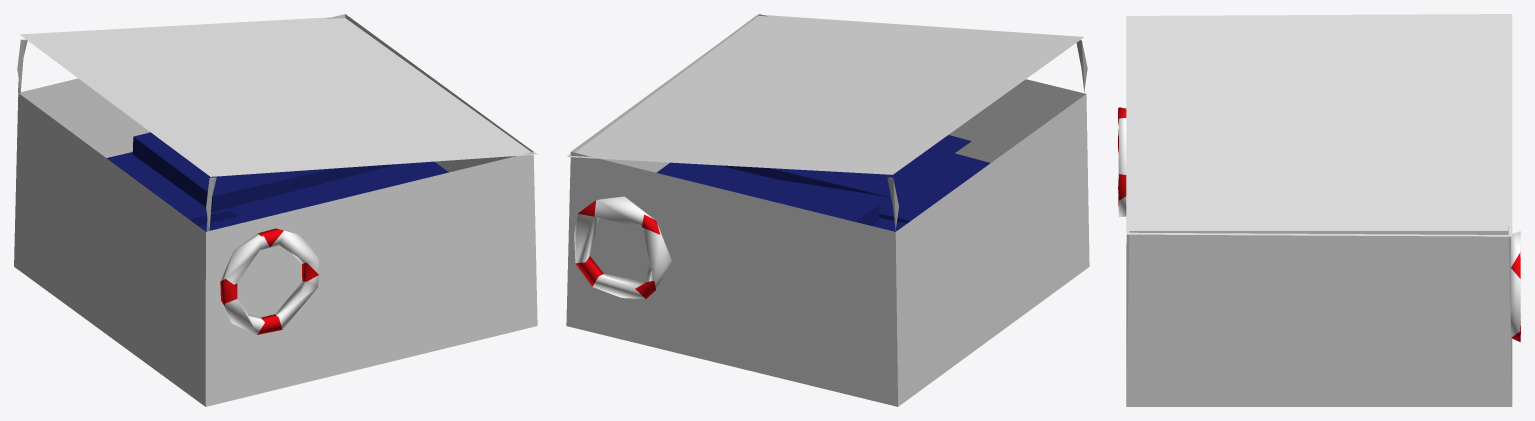
Rendered from Chair Storage.glb.
3 views of the same model, side by side, from view 1: azimuth 30°, elevation 25°; view 2: azimuth 150°, elevation 25°; view 3: azimuth 270°, elevation 25° (orthographic).
Visible parts, largest first — view 1: Case, Chair.003, Life Preserver.001, Chair.002, Hinges; view 2: Case, Chair.002, Chair.003, Life Preserver, Hinges; view 3: Case, Life Preserver, Life Preserver.001.
Part boxes in pixels (box(x1,y1,x2,y2)): Case: box(14, 14, 537, 406); Chair.003: box(106, 132, 397, 225); Life Preserver.001: box(220, 228, 318, 334); Chair.002: box(204, 161, 448, 231); Hinges: box(17, 39, 216, 231); Case: box(566, 14, 1089, 406); Chair.002: box(719, 135, 990, 223); Chair.003: box(656, 162, 904, 231); Life Preserver: box(574, 196, 671, 298); Hinges: box(887, 40, 1087, 231); Case: box(1126, 14, 1512, 406); Life Preserver: box(1511, 231, 1520, 341); Life Preserver.001: box(1118, 107, 1126, 217).
Size of what is drawn, in the model's own units: 1.39 by 0.9222 by 1.45.
